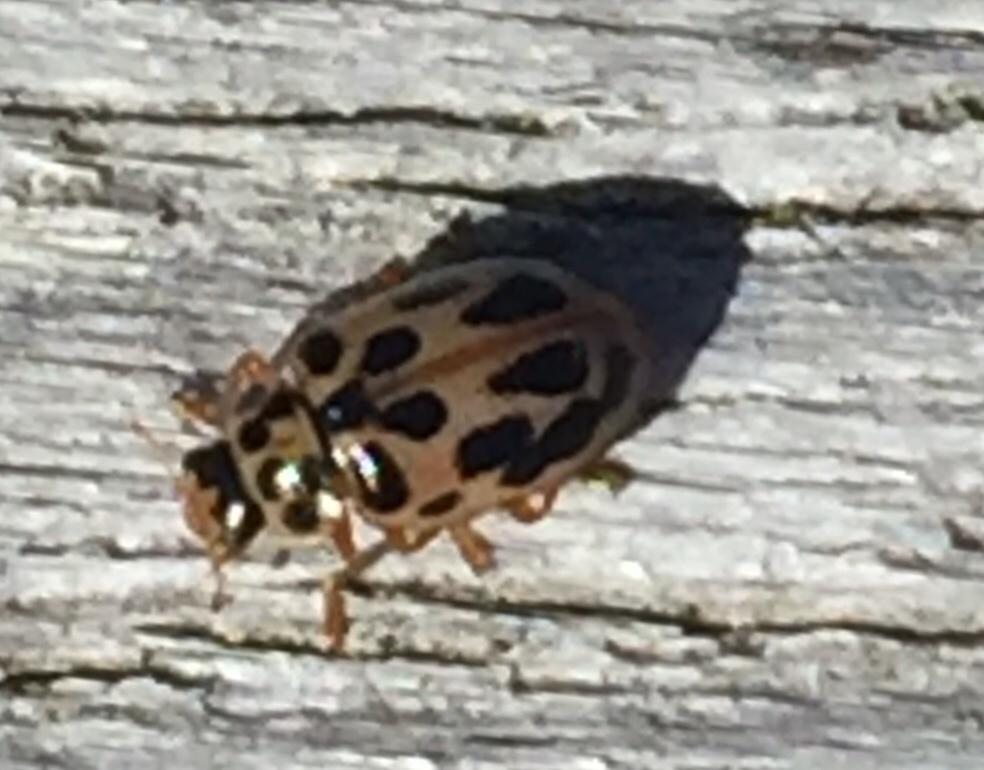ladybug: (131, 245, 657, 661)
